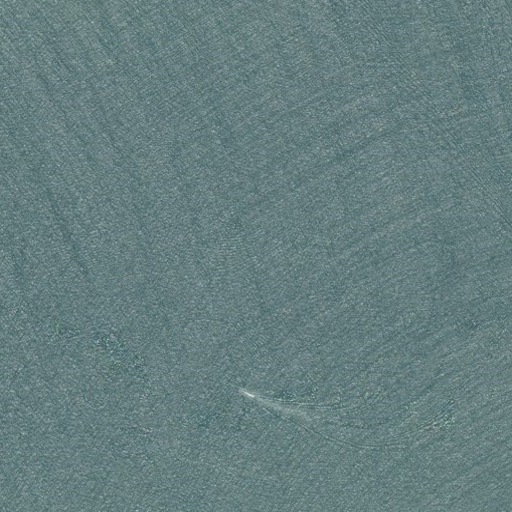ship: (236, 386, 260, 402)
